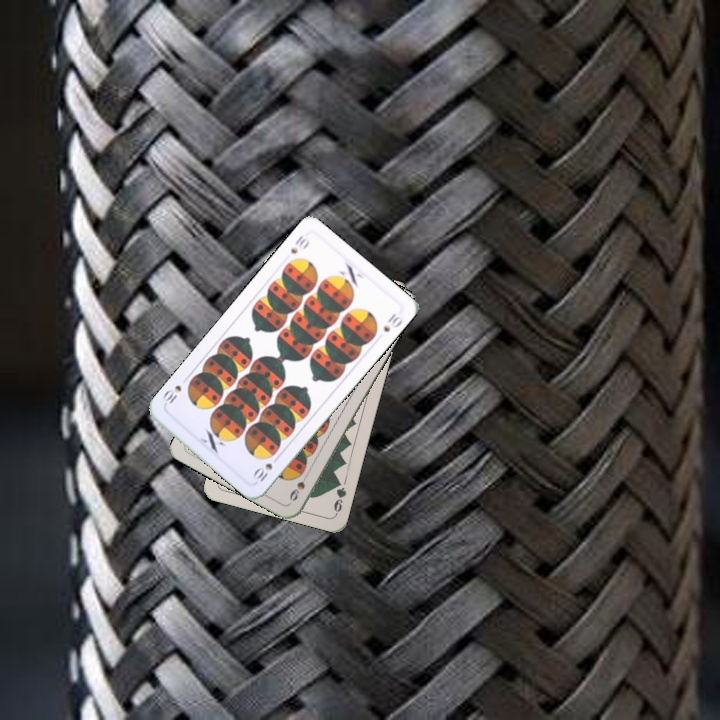G9: (330, 475, 349, 517)
S10: (249, 459, 275, 485), (286, 231, 312, 256)
S9: (285, 468, 312, 504)
